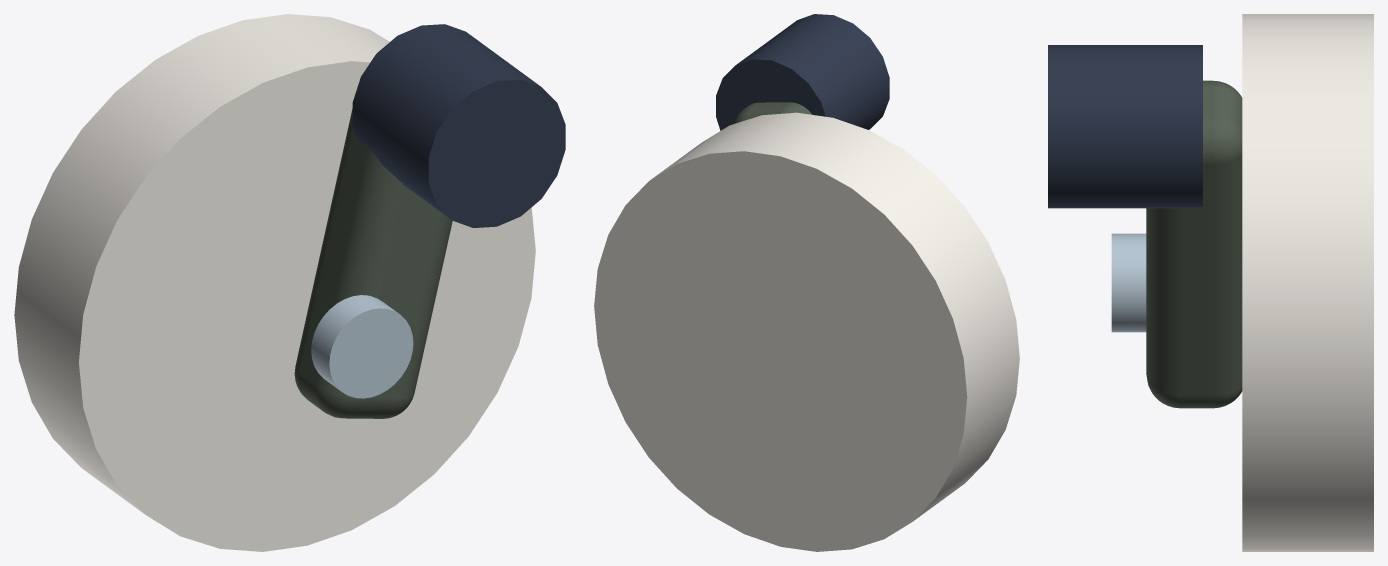
The model's file is crank-garden.prefab.glb.
The picture shows the model from 3 angles, left to right: view 1: azimuth 30°, elevation 25°; view 2: azimuth 150°, elevation 25°; view 3: azimuth 270°, elevation 25°; orthographic projection. The views are drawn at different scales.
Parts seen in each view (by area): view 1: Crank_Batch0, Crank_Batch1; view 2: Crank_Batch0; view 3: Crank_Batch0, Crank_Batch1.
Part boxes in pixels (x1=…): Crank_Batch0: x1=14, y1=14, x2=565, y2=551; Crank_Batch1: x1=311, y1=295, x2=413, y2=398; Crank_Batch0: x1=594, y1=14, x2=1019, y2=551; Crank_Batch0: x1=1048, y1=14, x2=1373, y2=551; Crank_Batch1: x1=1111, y1=233, x2=1146, y2=332.
Bounding box in the file's own units: 0.0348 × 0.0372 × 0.021.
2 materials, 2 textured.
